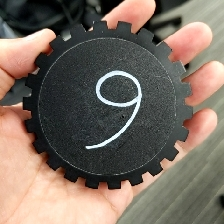gear: (21, 18, 194, 191)
